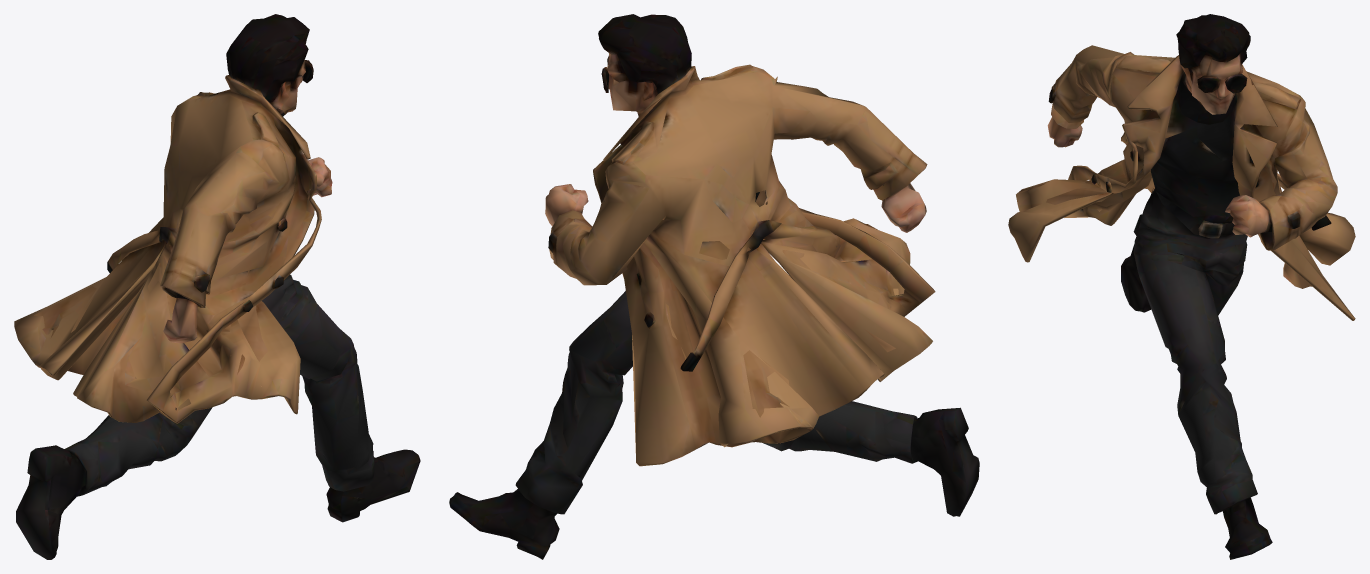
File: trenchcoat-pursuer.glb
The picture shows the model from 3 angles, left to right: view 1: azimuth 30°, elevation 25°; view 2: azimuth 150°, elevation 25°; view 3: azimuth 270°, elevation 25°; orthographic projection. The views are drawn at different scales.
Visible parts, largest first — view 1: tripo_node_1c519753-afd9-4094-bbac-a31e976ecda1; view 2: tripo_node_1c519753-afd9-4094-bbac-a31e976ecda1; view 3: tripo_node_1c519753-afd9-4094-bbac-a31e976ecda1.
Part boxes in pixels (bbox=[...]): tripo_node_1c519753-afd9-4094-bbac-a31e976ecda1: bbox=[14, 14, 420, 559]; tripo_node_1c519753-afd9-4094-bbac-a31e976ecda1: bbox=[449, 14, 979, 559]; tripo_node_1c519753-afd9-4094-bbac-a31e976ecda1: bbox=[1008, 14, 1355, 559].
Size of the model in its own units: 0.8904 by 0.9961 by 0.6399.
Materials: 1 (1 with a texture image).
